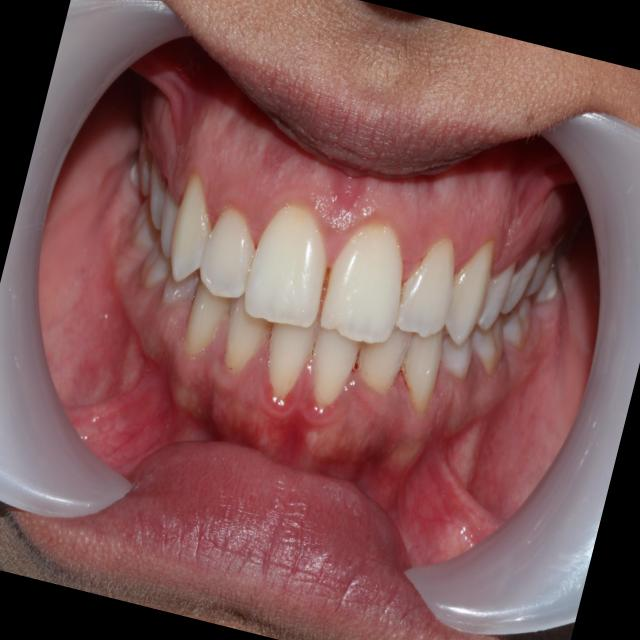Tooth: (244, 204, 327, 327), (320, 224, 403, 343), (395, 238, 454, 337), (200, 206, 256, 298), (445, 240, 493, 345), (170, 171, 211, 281), (313, 317, 361, 404), (269, 317, 317, 399), (185, 276, 231, 352), (358, 325, 411, 390), (402, 328, 443, 410), (227, 292, 271, 368), (476, 262, 516, 331), (472, 315, 504, 373), (140, 235, 171, 288), (440, 330, 472, 375), (160, 184, 179, 257), (162, 271, 199, 304)
